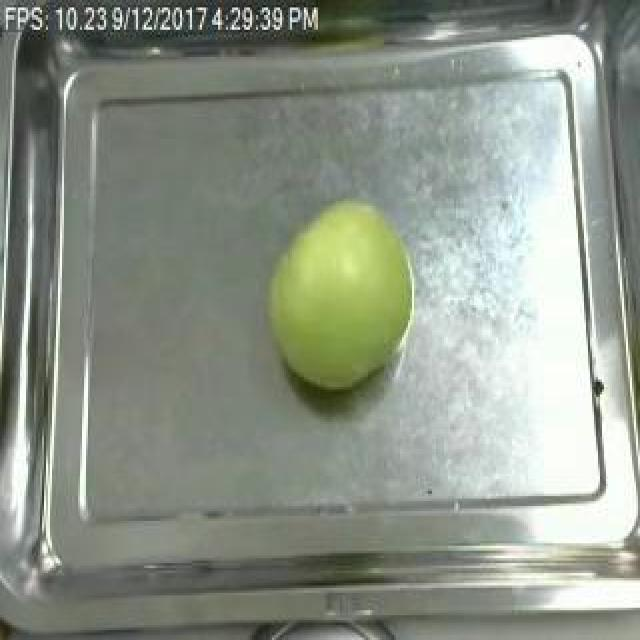Rotten Apple: (258, 188, 422, 402)
